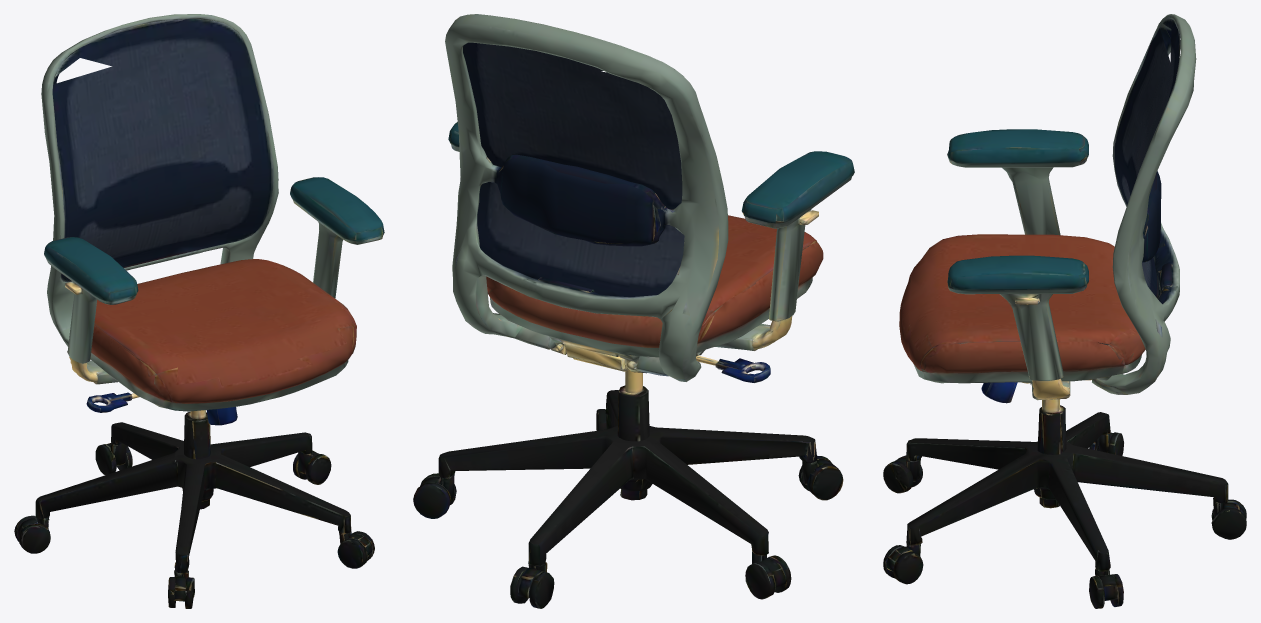
Rendered from chair_office_ergonomic.glb.
The picture shows the model from 3 angles, left to right: view 1: azimuth 30°, elevation 25°; view 2: azimuth 150°, elevation 25°; view 3: azimuth 270°, elevation 25°; orthographic projection. The views are drawn at different scales.
Parts seen in each view (by area): view 1: prop; view 2: prop; view 3: prop.
Part boxes in pixels (x1,y1,x2,y2): prop: [14, 14, 384, 608]; prop: [413, 14, 854, 608]; prop: [883, 14, 1246, 608].
Size of the model in its own units: 0.8004 by 1.15 by 0.7702.
1 material, 1 textured.
